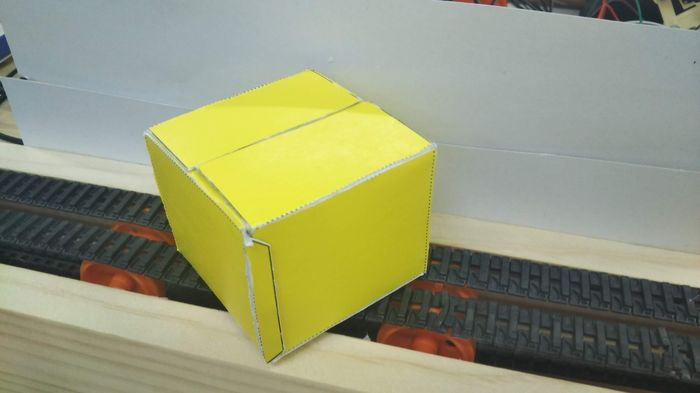box4: (138, 63, 439, 367)
